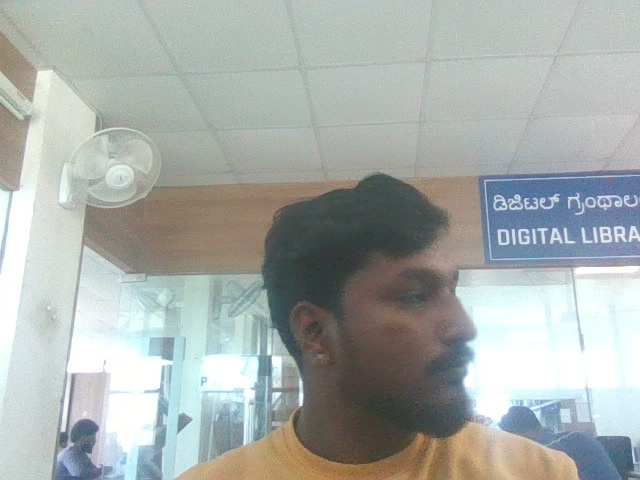real: (306, 165, 487, 421)
